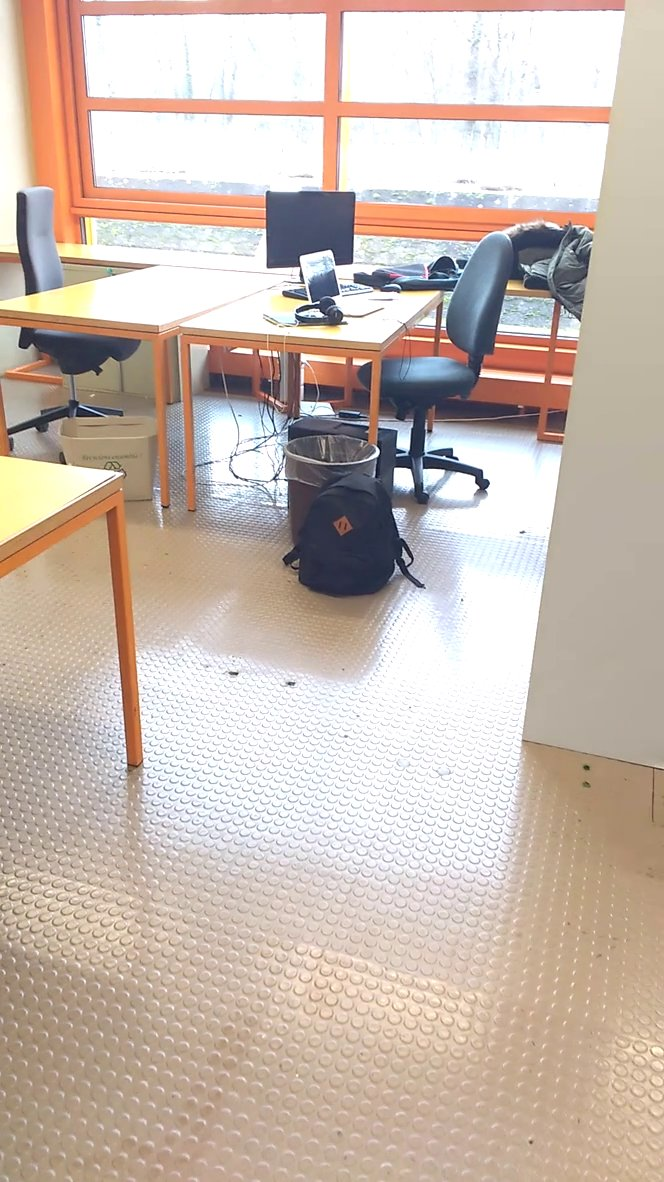bag: (281, 462, 429, 606)
bin: (279, 413, 387, 514)
box: (53, 407, 173, 509)
chair: (360, 224, 529, 478), (5, 179, 146, 367)
laptop: (293, 246, 388, 322)
